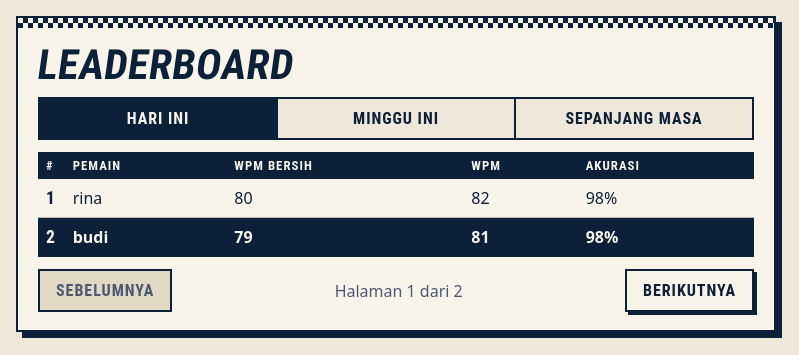
it: Leaderboard (LBD-1) › LBD_1_LeaderboardTampilPeriodeDanPaginasi
Expected: the text "rina" is shown, [65,179,226,218]
Expected: the number of rows with test id "leaderboard-row" is 2, [38,179,754,218]; [38,218,754,257]
Click the button "Berikutnya".
click(690, 291)  # box [625,269,754,312]
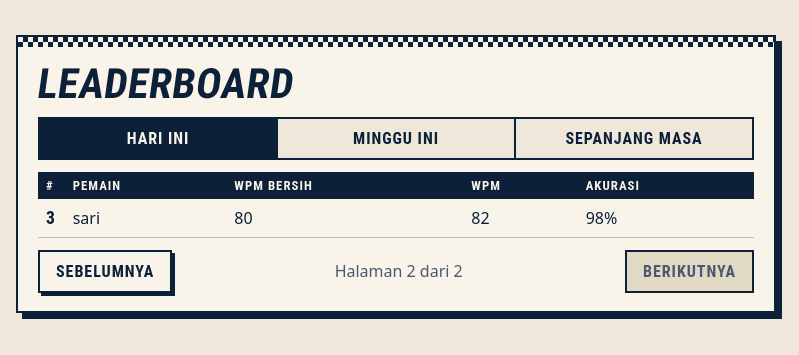
Expected: the text "sari" is shown, [65,199,226,237]
Click the tab "Sepanjang masa".
click(634, 138)  # box [516,119,752,158]
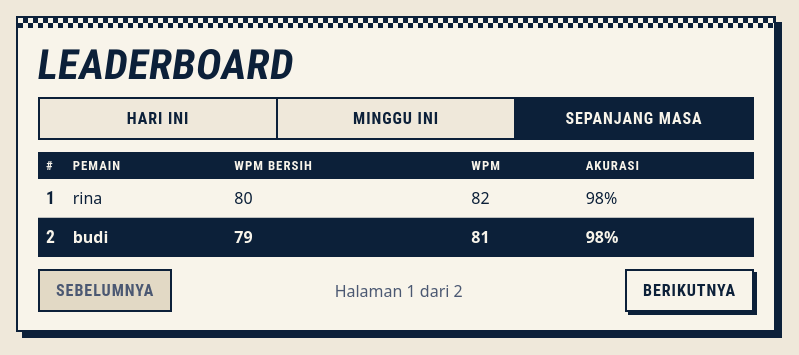
Expected: the text "rina" is shown, [65,179,226,218]
